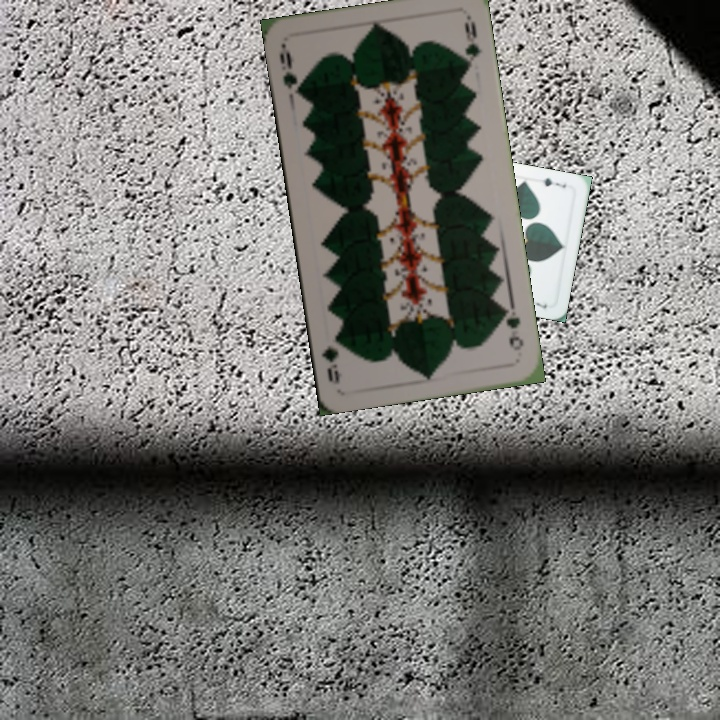G7: (534, 173, 569, 190)
G9: (275, 41, 306, 99), (498, 302, 527, 353)
